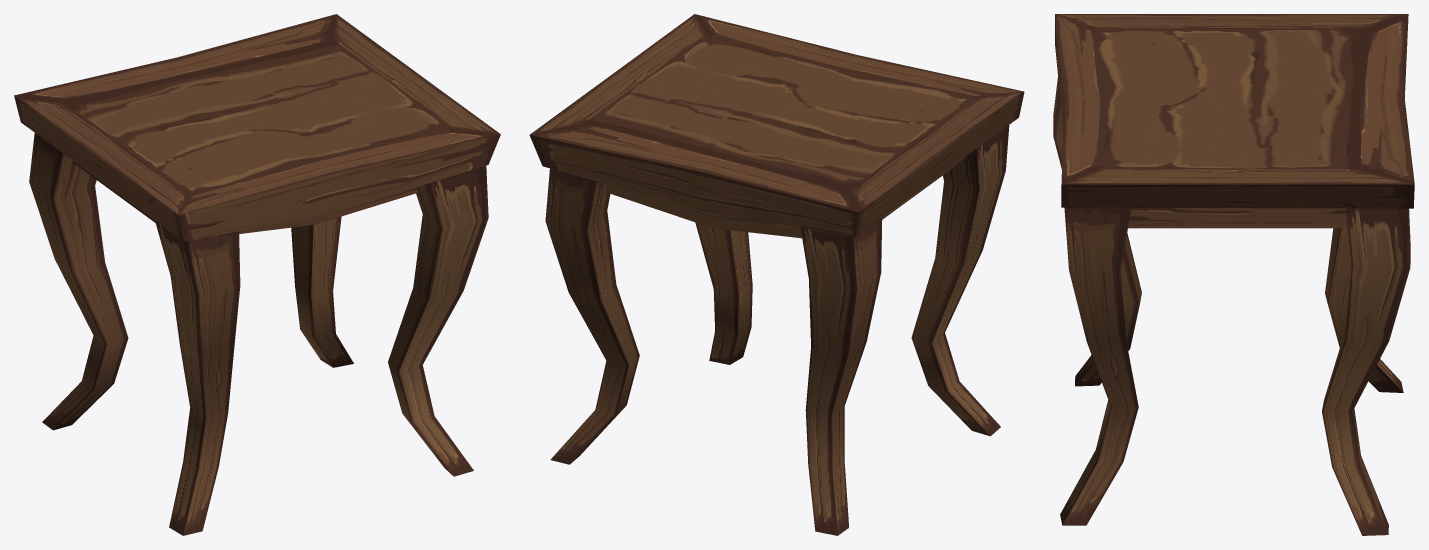
File: SM_PROP_table_interior_03.fbx
3 renders of one model, left to right at view 1: azimuth 30°, elevation 25°; view 2: azimuth 150°, elevation 25°; view 3: azimuth 270°, elevation 25°, orthographic. The views are drawn at different scales.
Visible parts, largest first — view 1: SM_PROP_table_interior_03; view 2: SM_PROP_table_interior_03; view 3: SM_PROP_table_interior_03.
Part boxes in pixels (x1=…): SM_PROP_table_interior_03: x1=14, y1=14, x2=500, y2=535; SM_PROP_table_interior_03: x1=529, y1=14, x2=1024, y2=535; SM_PROP_table_interior_03: x1=1053, y1=14, x2=1414, y2=535.
Bounding box in the file's own units: 91.8 × 89.04 × 82.21.
